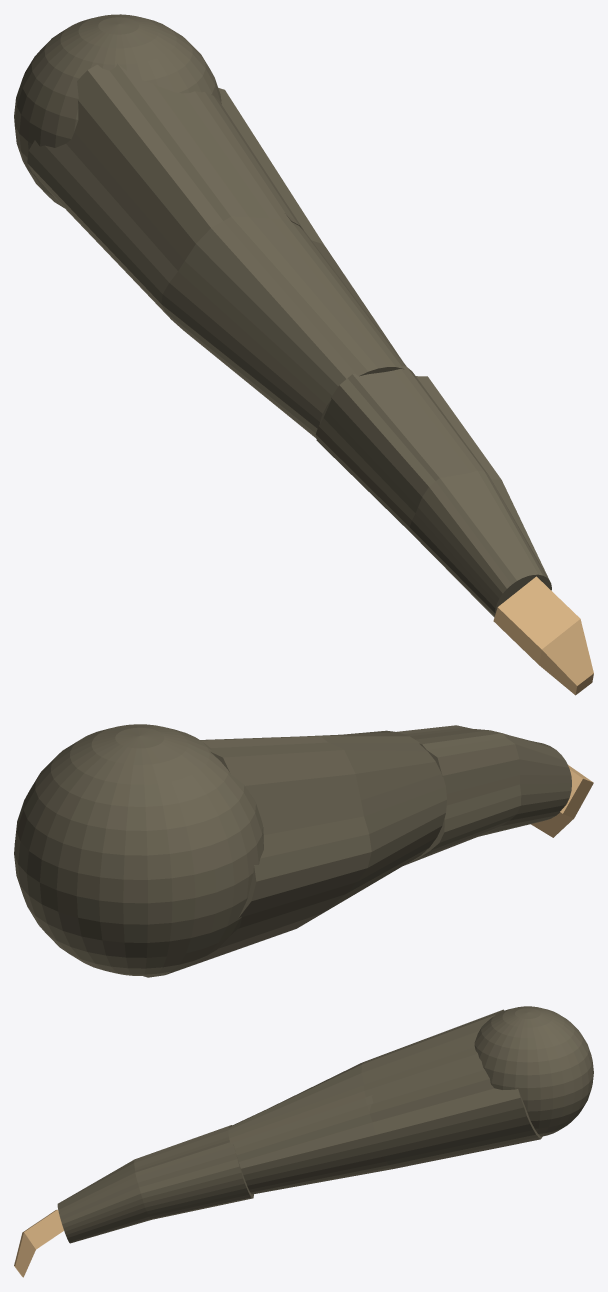
The model's file is hands.fbx.
3 renders of one model, top to bottom at view 1: azimuth 30°, elevation 25°; view 2: azimuth 150°, elevation 25°; view 3: azimuth 270°, elevation 25°, orthographic. The views are drawn at different scales.
Parts seen in each view (by area): view 1: Cylinder, Cylinder.002, Sphere, Cube; view 2: Sphere, Cylinder, Cylinder.002, Cube; view 3: Cylinder, Cylinder.002, Sphere, Cube.
Part boxes in pixels (<box>): Cylinder: <box>27,63,406,438</box>; Cylinder.002: <box>315,366,551,617</box>; Sphere: <box>14,14,221,208</box>; Cube: <box>493,576,593,695</box>; Sphere: <box>14,724,263,975</box>; Cylinder: <box>143,730,446,977</box>; Cylinder.002: <box>397,725,571,865</box>; Cube: <box>531,765,593,837</box>; Cylinder: <box>228,1009,542,1194</box>; Cylinder.002: <box>57,1125,253,1243</box>; Sphere: <box>474,1006,593,1136</box>; Cube: <box>14,1209,63,1277</box>.
Size of the model in its own units: 172 by 329 by 698.
